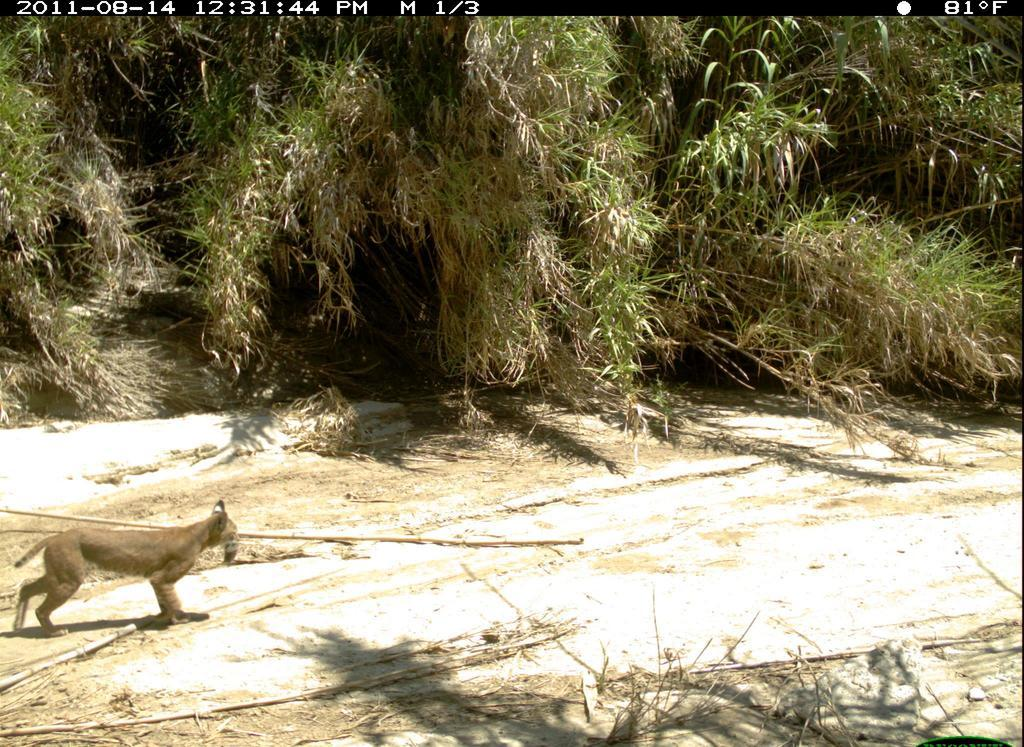bobcat: (9, 496, 246, 652)
